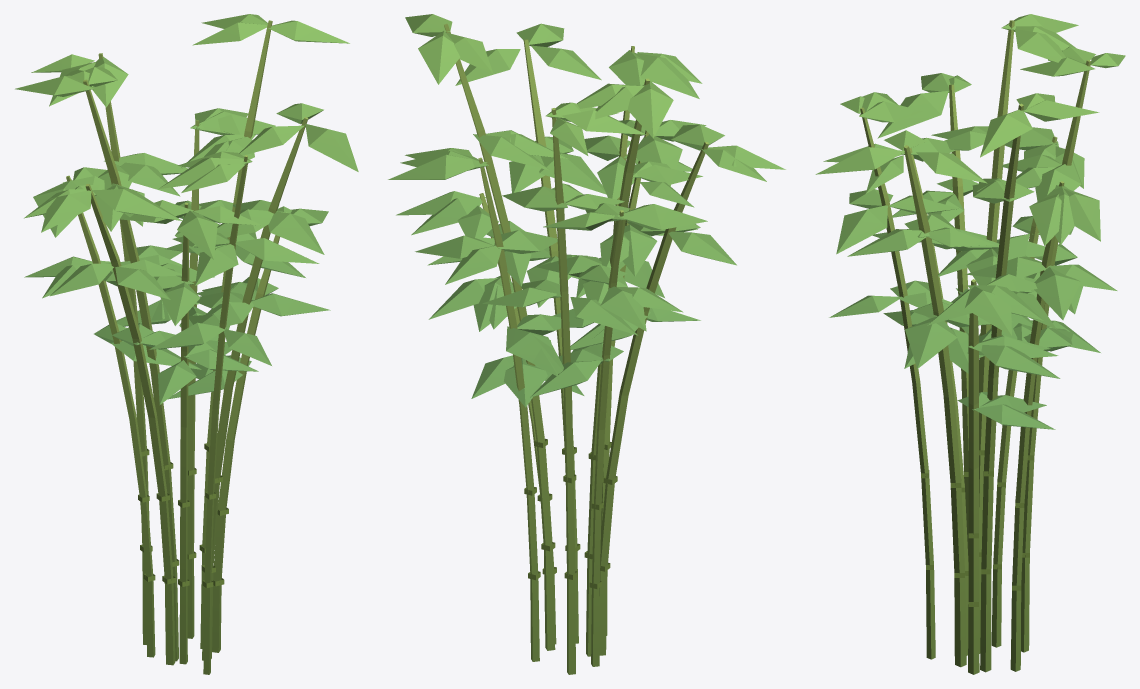
Rendered from bamboo_clump.glb.
3 views of the same model, side by side, from view 1: azimuth 30°, elevation 25°; view 2: azimuth 150°, elevation 25°; view 3: azimuth 270°, elevation 25° (orthographic). The views are drawn at different scales.
Parts seen in each view (by area): view 1: bamboo_clump; view 2: bamboo_clump; view 3: bamboo_clump.
Boxes of the visible parts, box(x1,y1,x2,y2) form: bamboo_clump: box(15, 14, 358, 674); bamboo_clump: box(388, 14, 785, 674); bamboo_clump: box(815, 14, 1125, 674).
Size of the model in its own units: 5.18 by 8.68 by 4.03.
